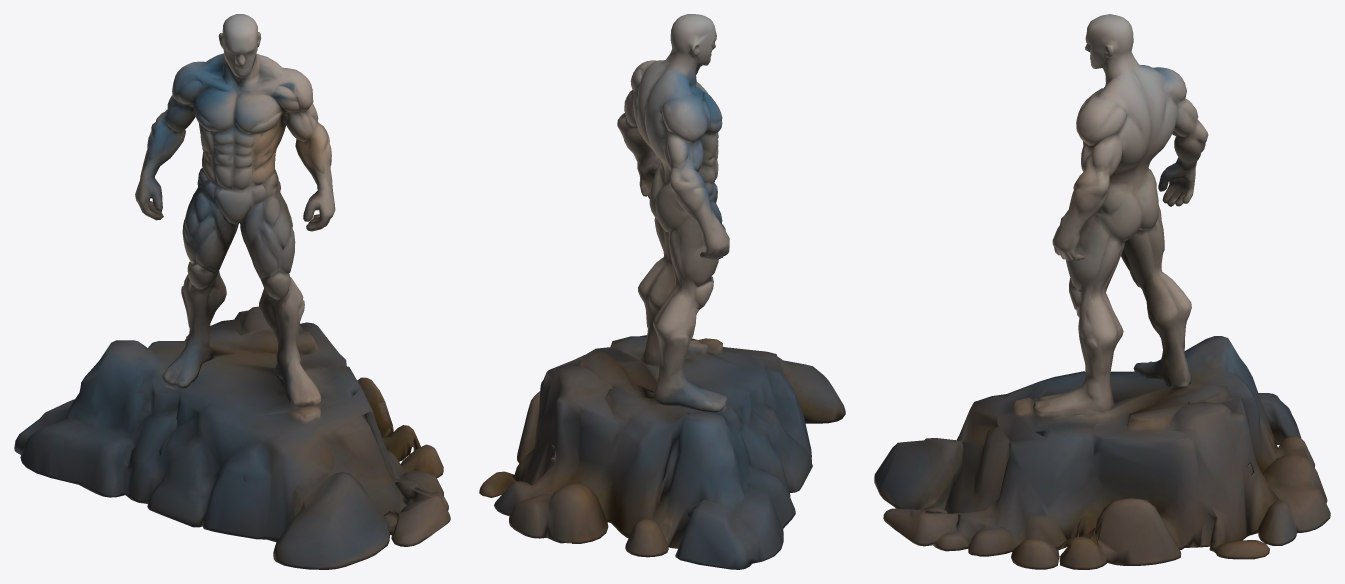
The model's file is rocky_outcrop_b582bd01_v1.glb.
3 renders of one model, left to right at view 1: azimuth 30°, elevation 25°; view 2: azimuth 150°, elevation 25°; view 3: azimuth 270°, elevation 25°, orthographic. The views are drawn at different scales.
Parts seen in each view (by area): view 1: material; view 2: material; view 3: material.
Part boxes in pixels (left/top/right/bottom): material: left=14, top=14, right=450, bottom=569; material: left=479, top=14, right=845, bottom=569; material: left=874, top=14, right=1330, bottom=569.
Bounding box in the file's own units: 1.35 × 1.9 × 1.67.
1 material, 1 textured.
